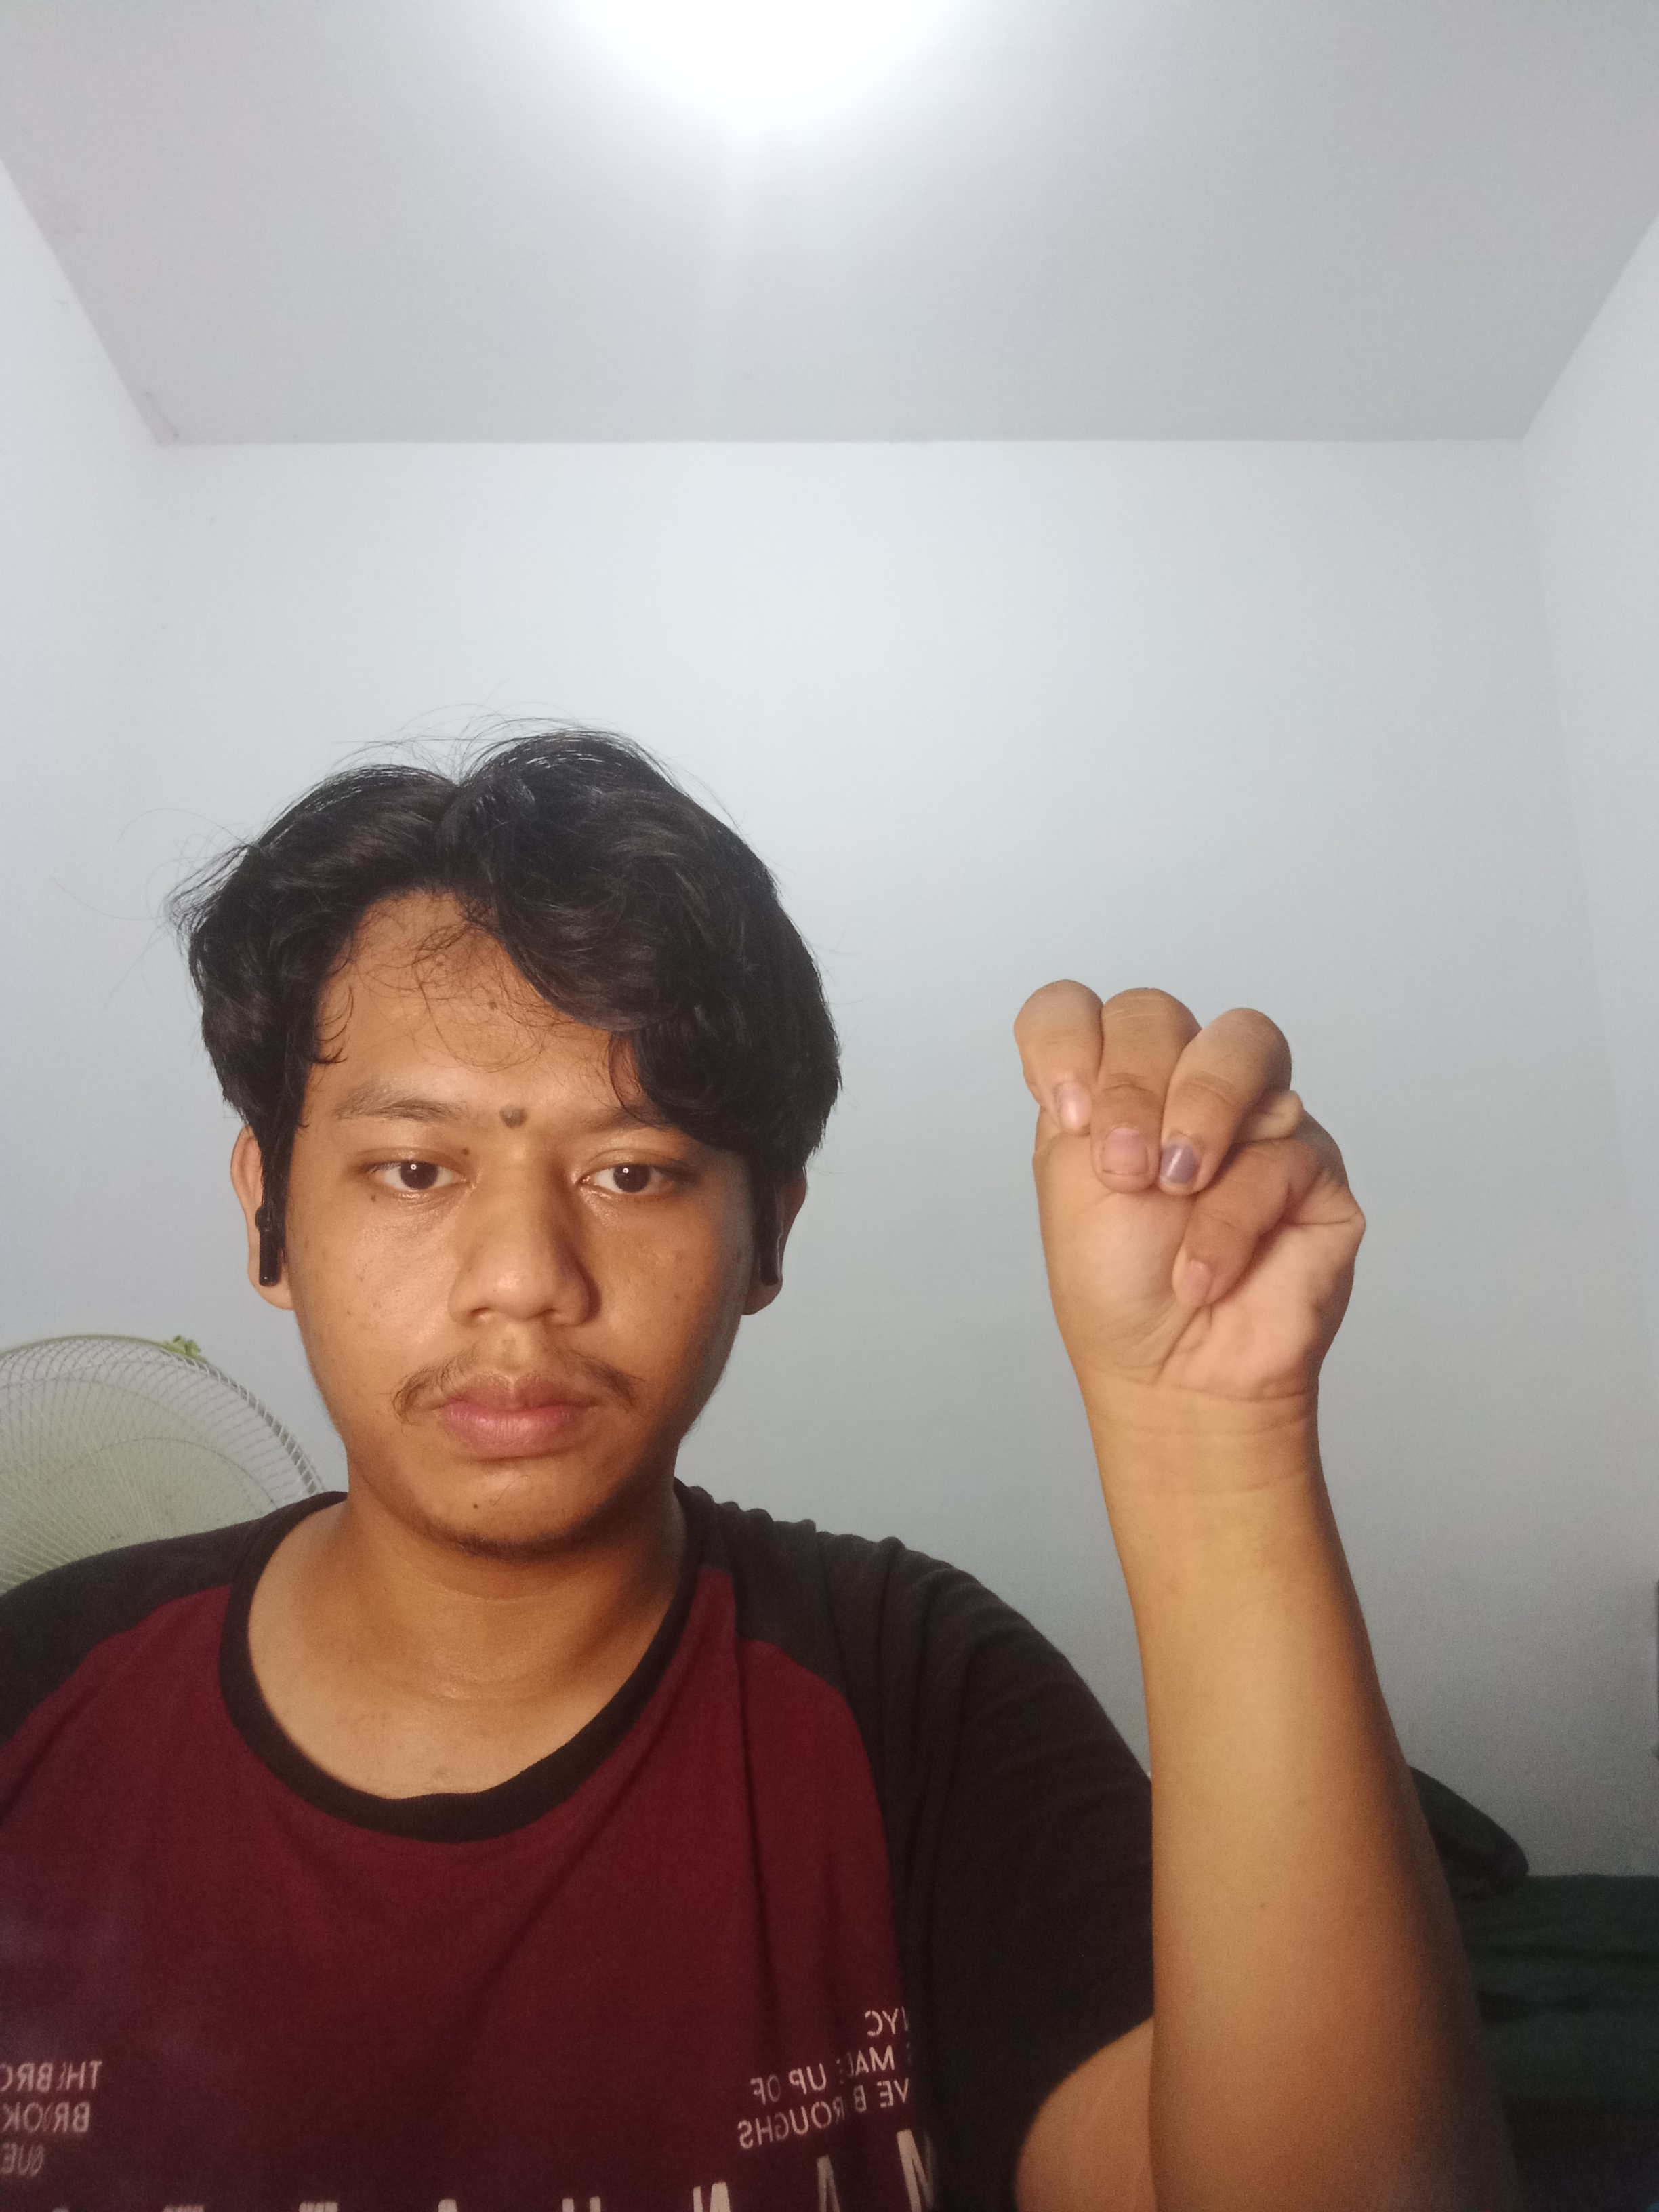M: (985, 965, 1412, 1428)
